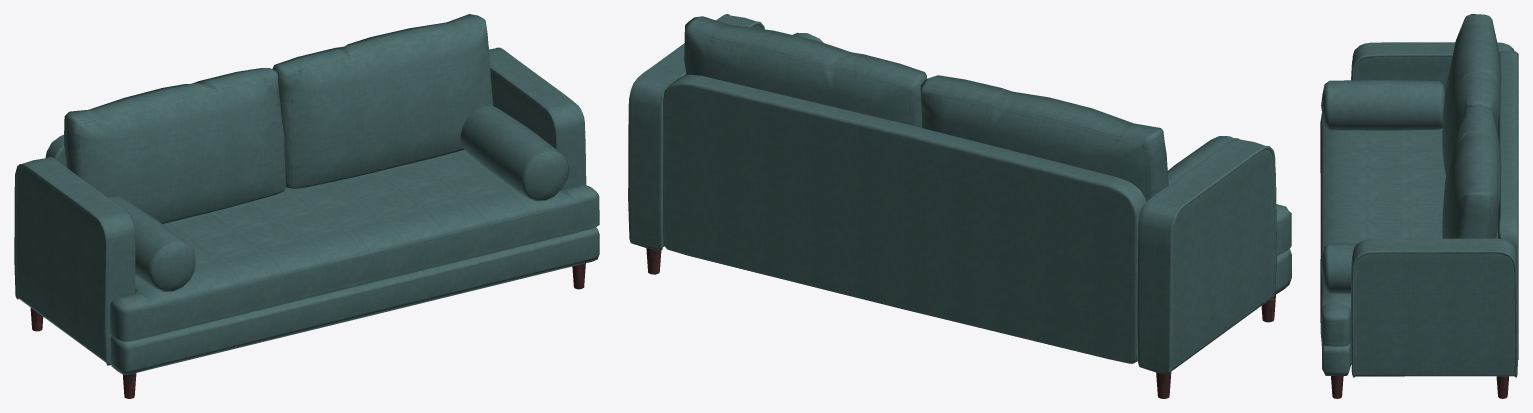
3 views of the same model, side by side, from view 1: azimuth 30°, elevation 25°; view 2: azimuth 150°, elevation 25°; view 3: azimuth 270°, elevation 25° (orthographic). The views are drawn at different scales.
Visible parts, largest first — view 1: sofa; view 2: sofa; view 3: sofa.
Part boxes in pixels (x1,y1,x2,y2): sofa: (14,14,599,398); sofa: (628,14,1291,398); sofa: (1320,14,1518,398).
Bounding box in the file's own units: 2.53 × 1.1 × 1.01.
1 material, 1 textured.
